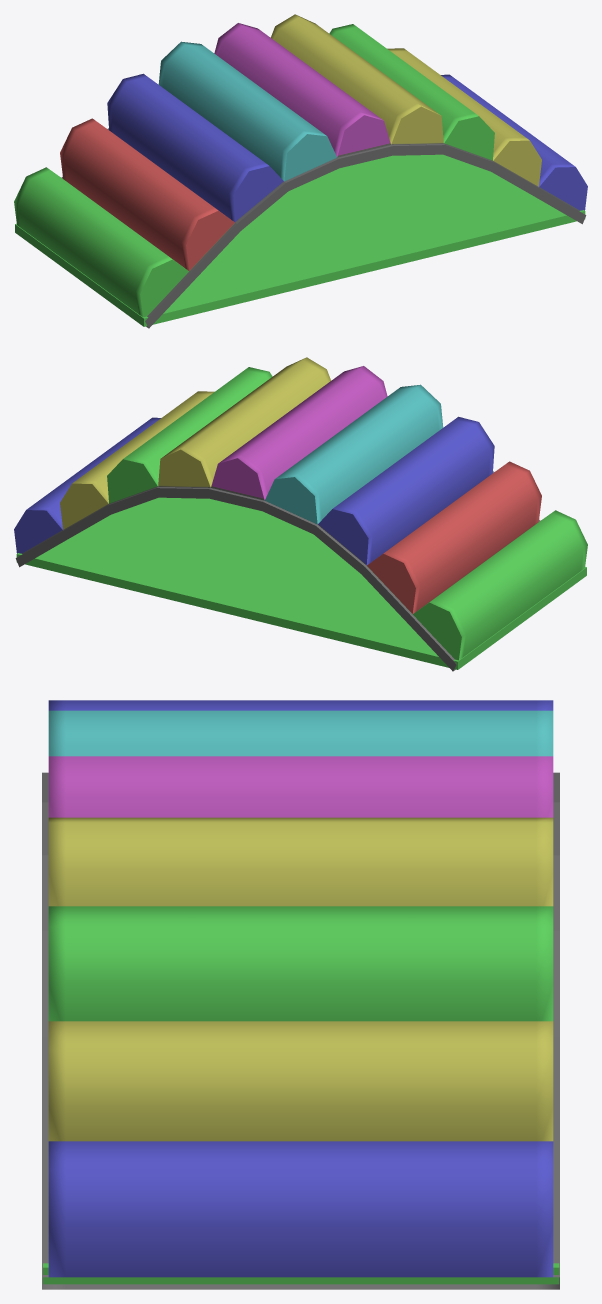
File: Bridge 1.fbx
The picture shows the model from 3 angles, top to bottom: view 1: azimuth 30°, elevation 25°; view 2: azimuth 150°, elevation 25°; view 3: azimuth 270°, elevation 25°; orthographic projection. The views are drawn at different scales.
Visible parts, largest first — view 1: Bridge; view 2: Bridge; view 3: Bridge.
Part boxes in pixels (x1,y1,x2,y2): Bridge: (14,14,587,328); Bridge: (14,357,587,671); Bridge: (42,700,559,1289).
Bounding box in the file's own units: 401 × 138 × 201.
